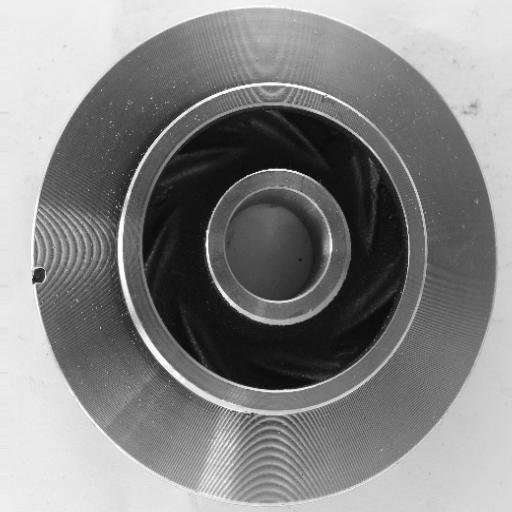pit: (23, 255, 63, 298)
unpolished_casting: (33, 8, 495, 512)
